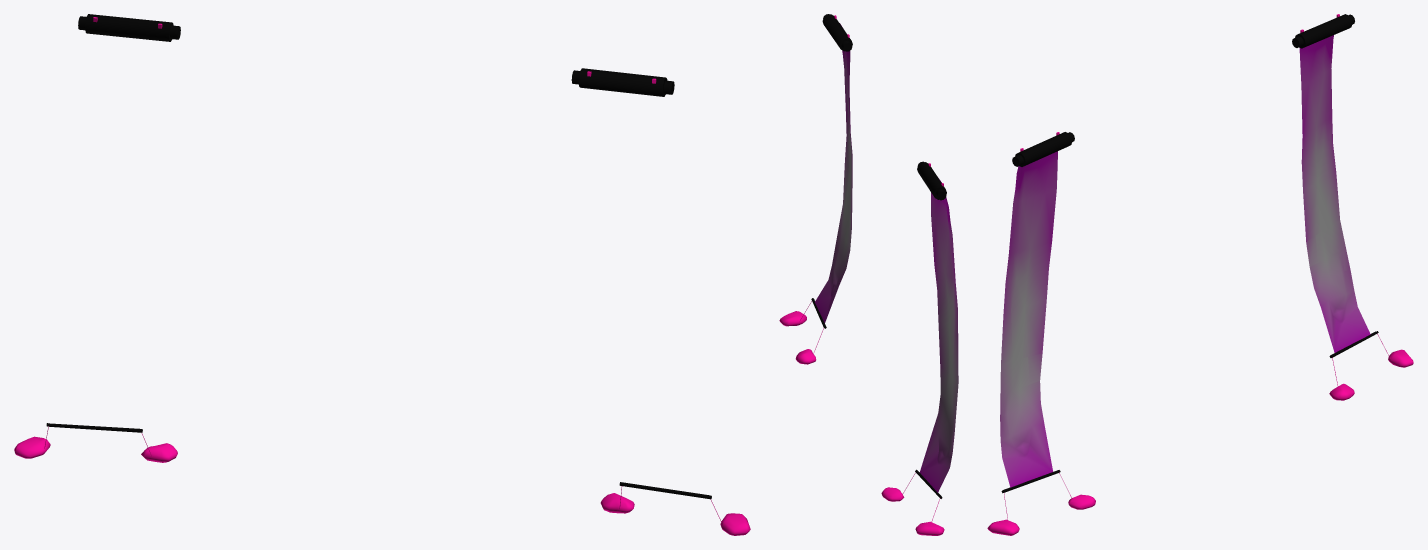
Rendered from SM_ENV_LKNVLD_ShopFlag_A_Lod3.gltf.
3 views of the same model, side by side, from view 1: azimuth 30°, elevation 25°; view 2: azimuth 150°, elevation 25°; view 3: azimuth 270°, elevation 25° (orthographic). The views are drawn at different scales.
Visible parts, largest first — view 1: SM_ENV_LKNVLD_ShopFlag_A_Lod3; view 2: SM_ENV_LKNVLD_ShopFlag_A_Lod3; view 3: SM_ENV_LKNVLD_ShopFlag_A_Lod3.
Boxes of the visible parts, x1,y1,x2,y2 form: SM_ENV_LKNVLD_ShopFlag_A_Lod3: [14, 14, 750, 535]; SM_ENV_LKNVLD_ShopFlag_A_Lod3: [779, 14, 958, 535]; SM_ENV_LKNVLD_ShopFlag_A_Lod3: [987, 14, 1413, 535].
Bounding box in the file's own units: 18.24 × 16.74 × 18.04.
